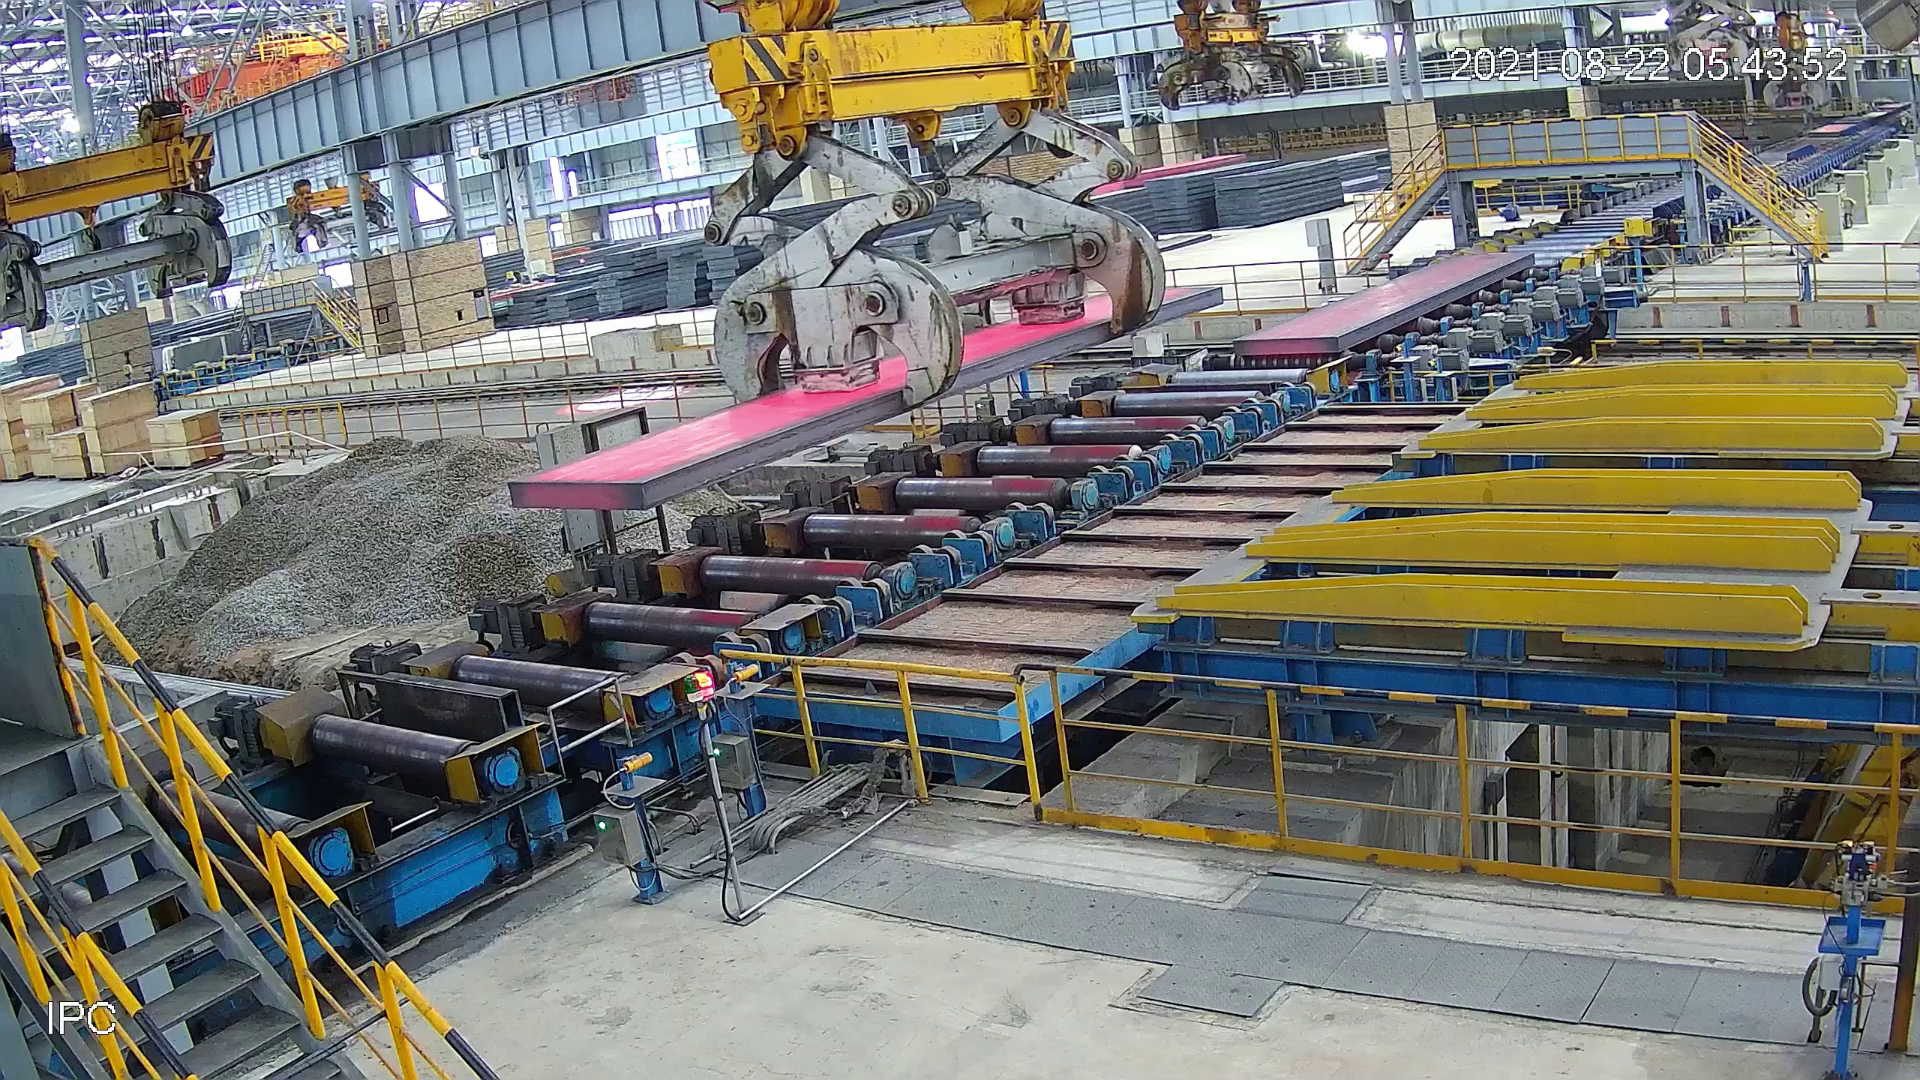crane: (1126, 3, 1309, 117)
craneandslab: (481, 22, 1213, 520)
slab: (1226, 248, 1542, 360)
